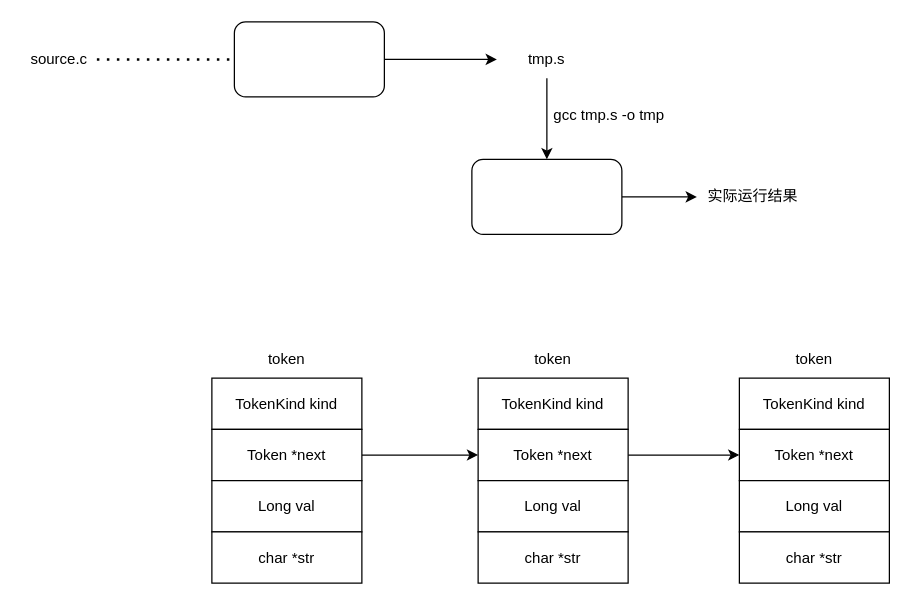
This 911x605 diagram has some shape labels left out. Here are the shapes that lost their labels. From the top down, the centre of each, then its label:
the point at 308,59: easycc
the point at 546,196: tmp
